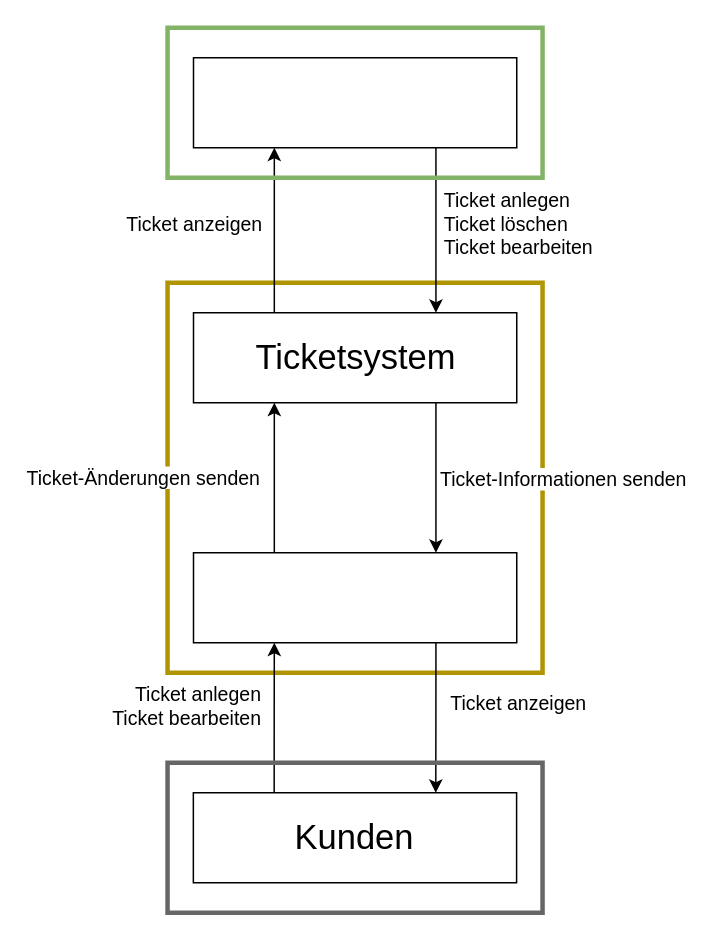
Some shapes in this 711 by 941 pixel diagram are drawn without their labels. The shapes that lost their labels are listed below. From the top down, each one's centre as x and y in pixels, then its label:
At [354,102]: "Servicemitarbeiter".
At [354,597]: "Weboberfläche".
